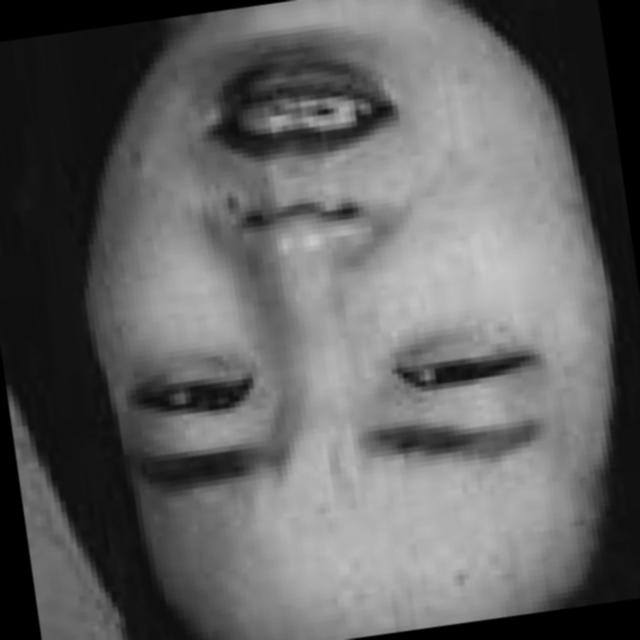disgust: (35, 0, 578, 625)
